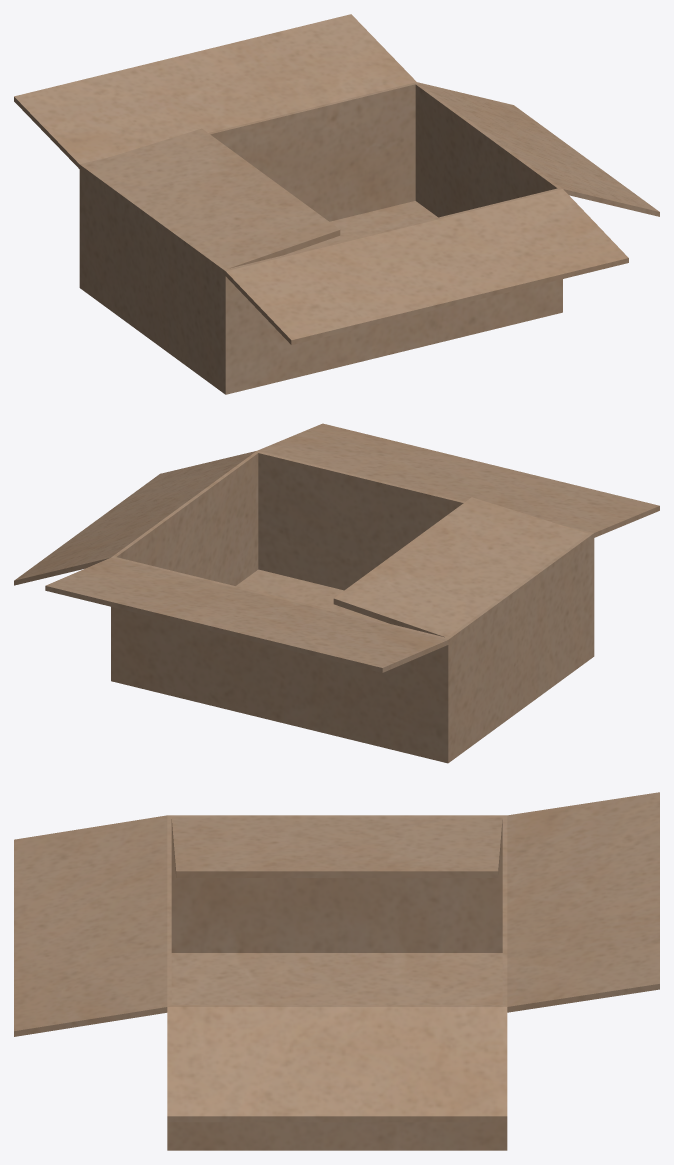
File: Caja.fbx
The picture shows the model from 3 angles, top to bottom: view 1: azimuth 30°, elevation 25°; view 2: azimuth 150°, elevation 25°; view 3: azimuth 270°, elevation 25°; orthographic projection. The views are drawn at different scales.
Visible parts, largest first — view 1: Box001; view 2: Box001; view 3: Box001.
Boxes of the visible parts, box(x1,y1,x2,y2) form: Box001: box(14, 14, 659, 394); Box001: box(14, 423, 659, 763); Box001: box(14, 792, 659, 1150).
Size of the model in its own units: 129 by 40.65 by 142.
1 material, 1 textured.
